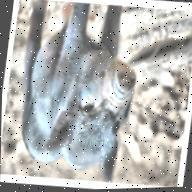boar: (9, 0, 146, 189)
